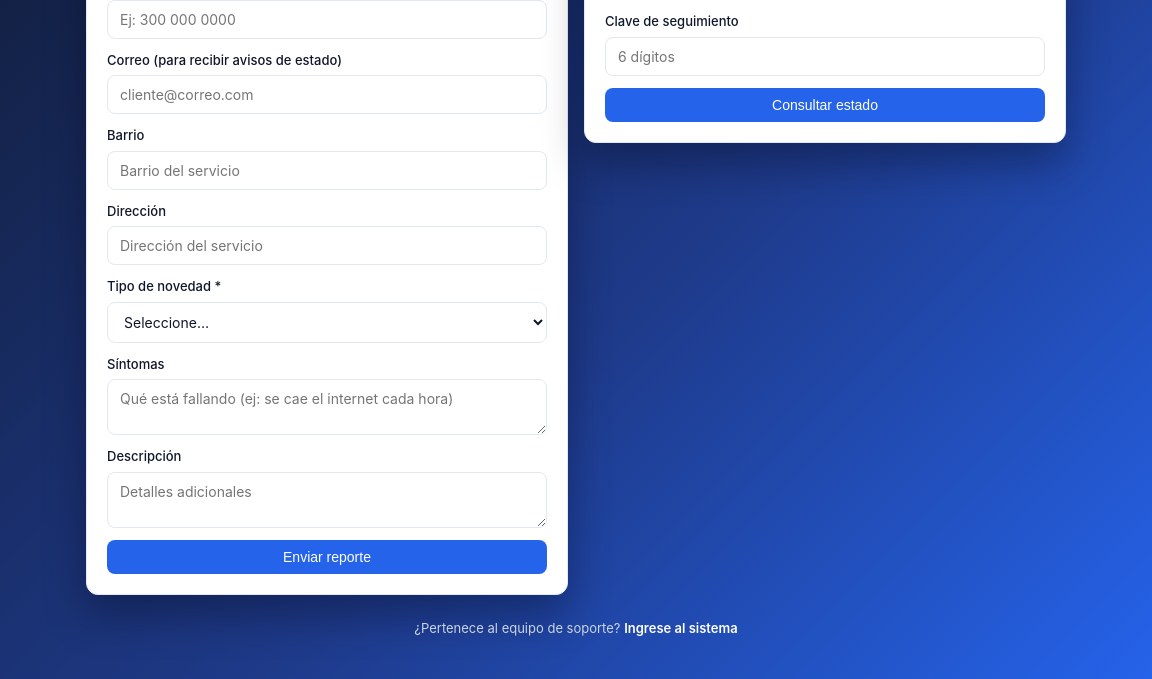
it: Reportar (portal del cliente) › rechaza el envío sin datos obligatorios
The width and height of the screenshot is (1152, 679).
(page scrolled)
Click the button "Enviar reporte" at (327, 557), box [107, 540, 547, 574]
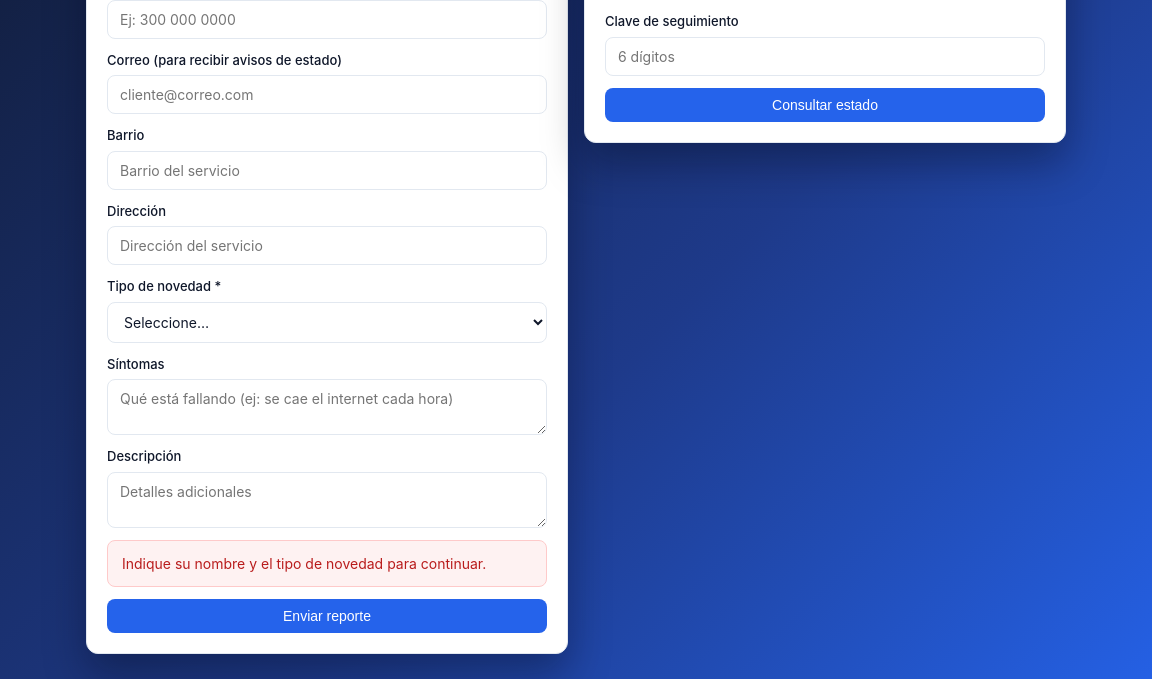
Result: the message shows "Indique su nombre" at [122, 555, 486, 572]
